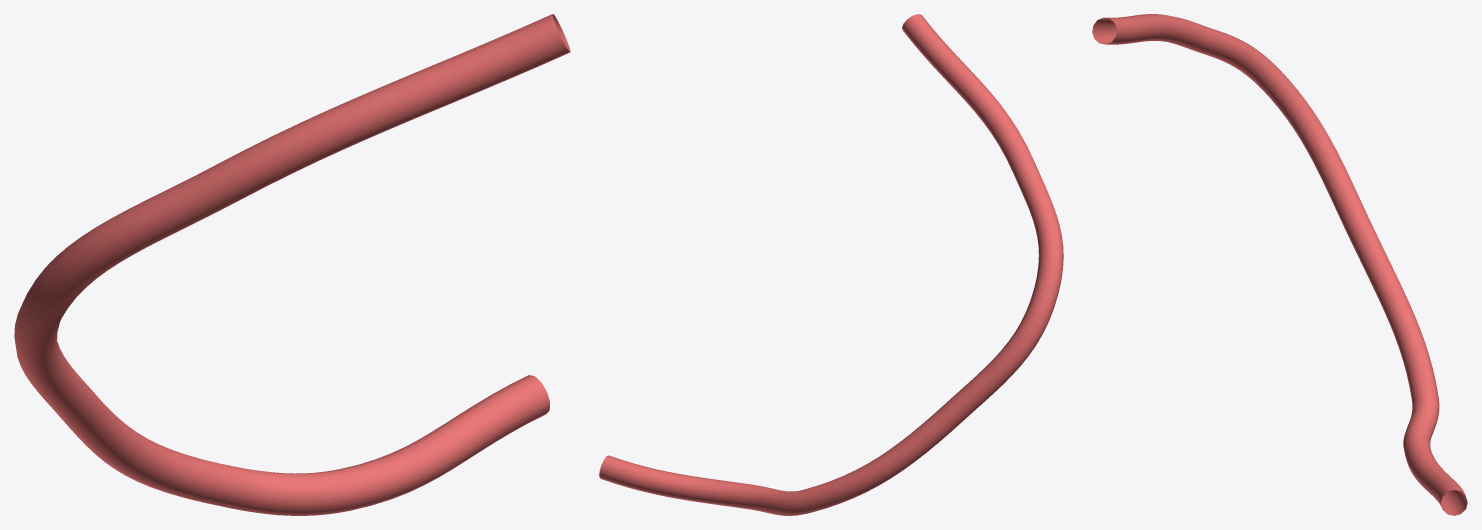
Rendered from Dorsal_carpal_branch_of_ulnar_artery.l_BezierCurve.279.glb.
3 renders of one model, left to right at view 1: azimuth 30°, elevation 25°; view 2: azimuth 150°, elevation 25°; view 3: azimuth 270°, elevation 25°, orthographic. The views are drawn at different scales.
Visible parts, largest first — view 1: Dorsal_carpal_branch_of_ulnar_artery.l_BezierCurve.279; view 2: Dorsal_carpal_branch_of_ulnar_artery.l_BezierCurve.279; view 3: Dorsal_carpal_branch_of_ulnar_artery.l_BezierCurve.279.
Boxes of the visible parts, <box> form: Dorsal_carpal_branch_of_ulnar_artery.l_BezierCurve.279: <box>14,14,570,515</box>; Dorsal_carpal_branch_of_ulnar_artery.l_BezierCurve.279: <box>599,14,1063,515</box>; Dorsal_carpal_branch_of_ulnar_artery.l_BezierCurve.279: <box>1092,14,1467,515</box>.
Bounding box in the file's own units: 0.0243 × 0.0246 × 0.0195.
